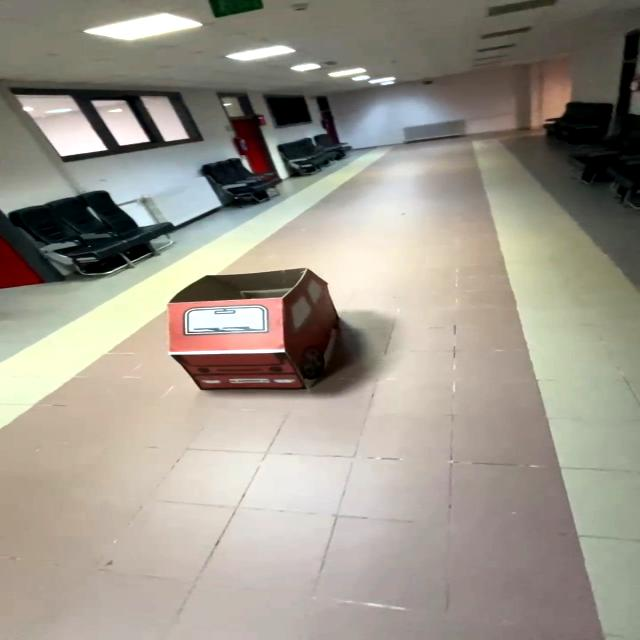red_car: (144, 253, 377, 413)
